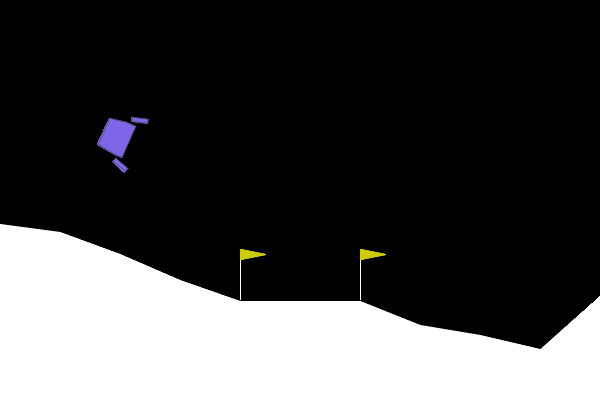lander: (90, 103, 150, 174)
